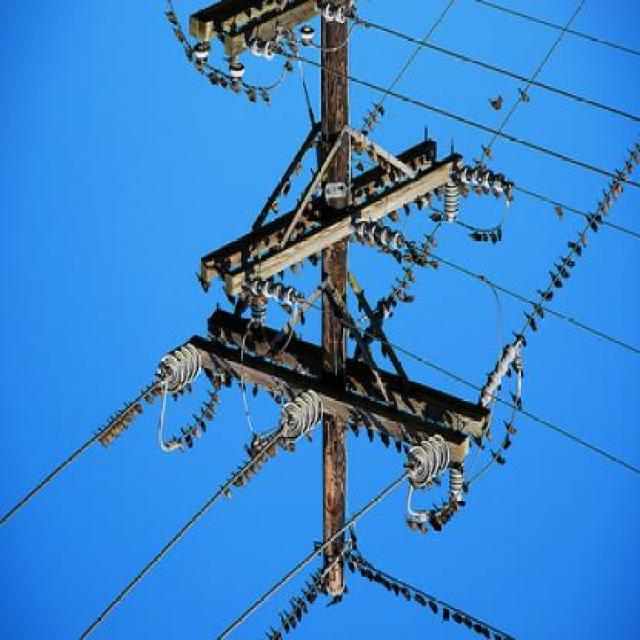pole: (146, 3, 539, 592)
